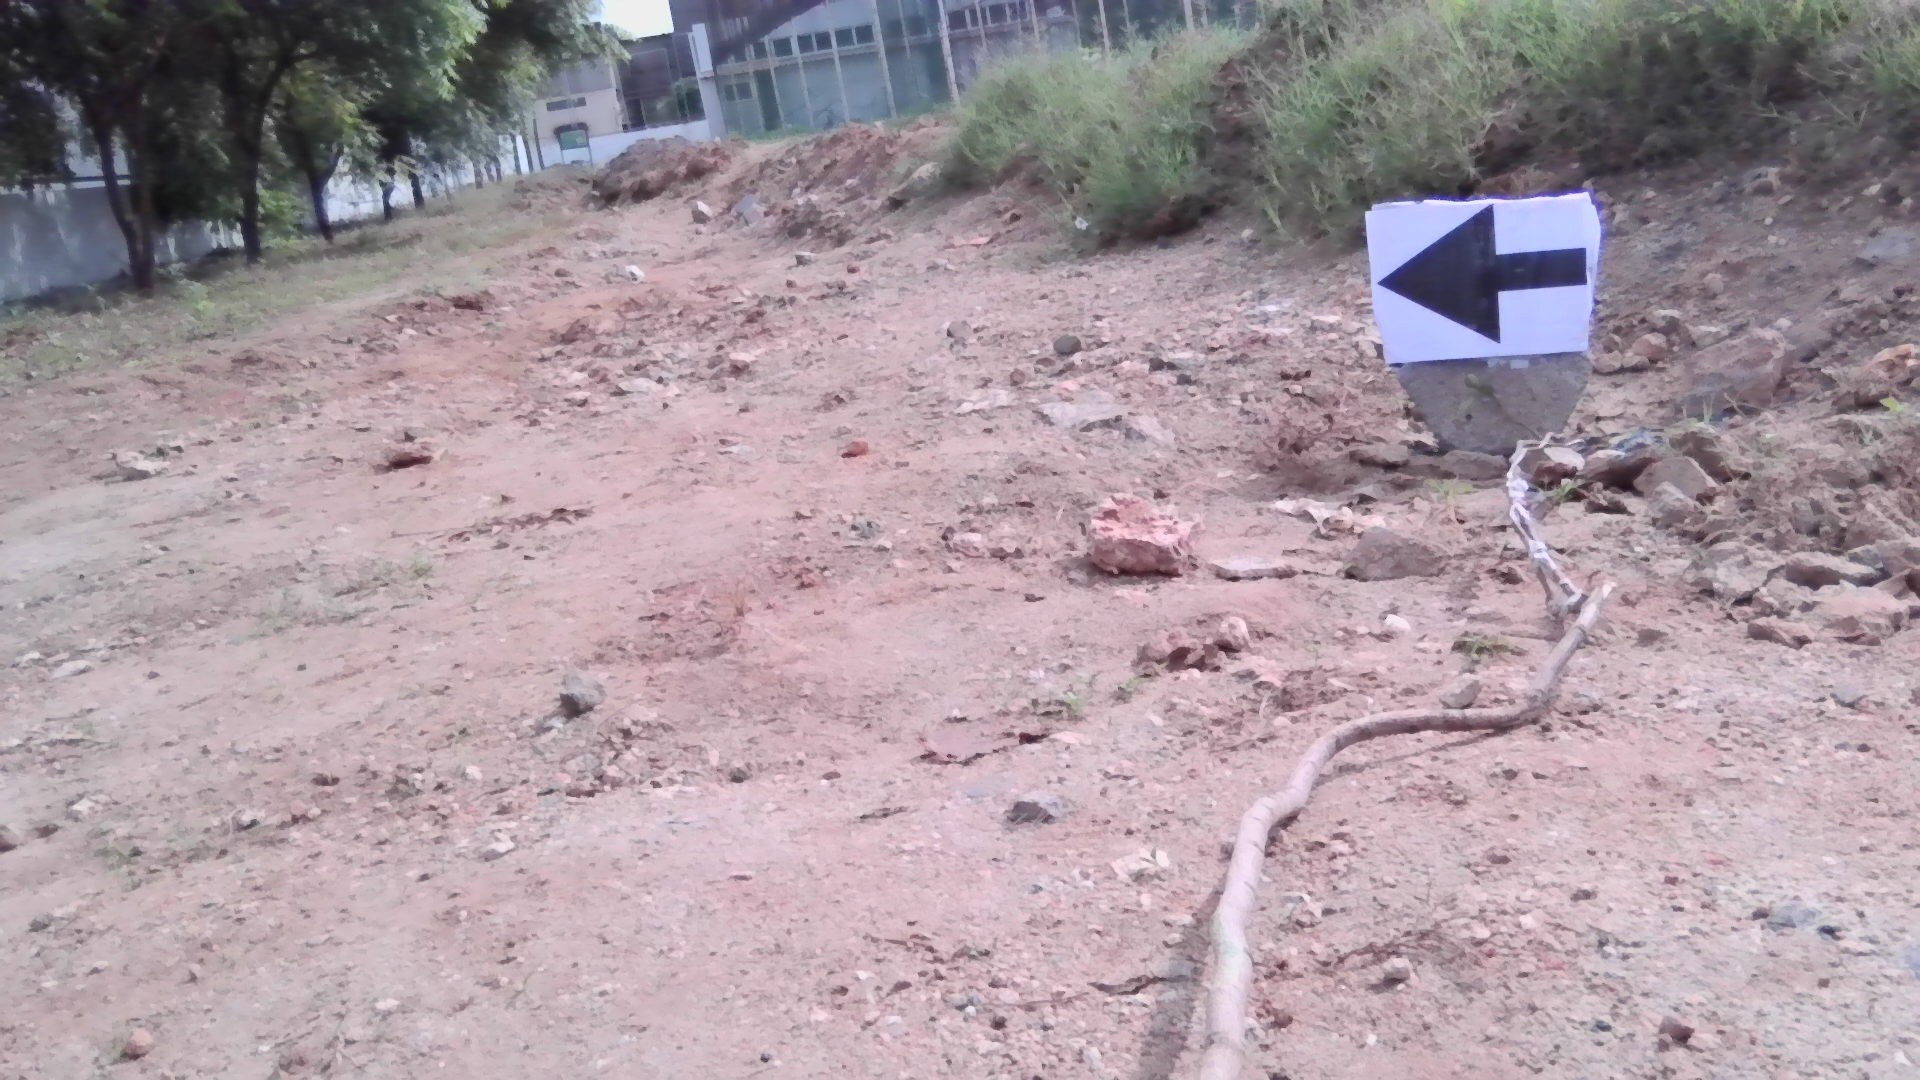leftDir: (1367, 208, 1598, 355)
